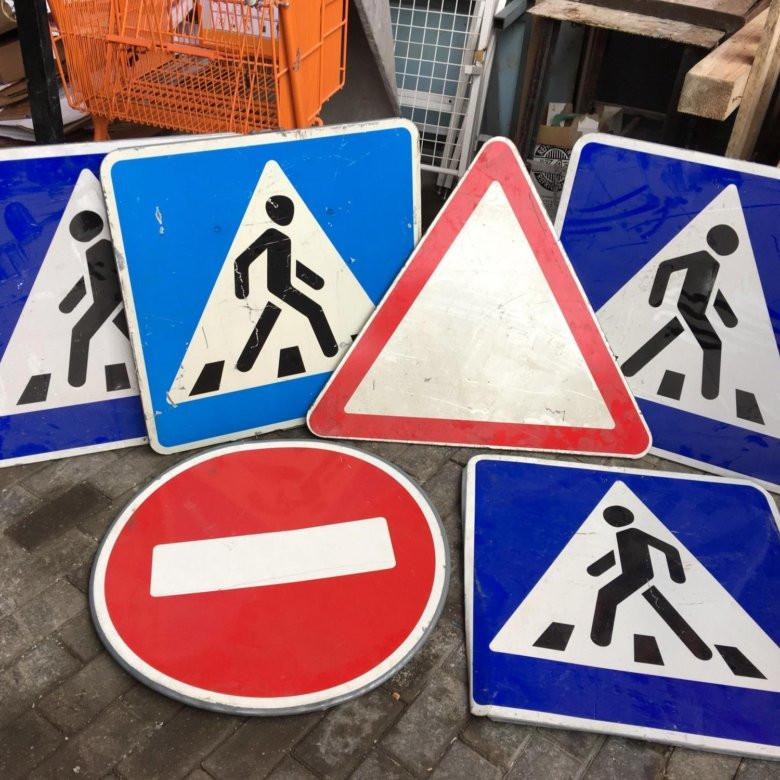obstructed_road_sign: (101, 113, 423, 455), (553, 133, 780, 493), (0, 142, 150, 466)
road_sign: (303, 136, 654, 461), (85, 440, 449, 716), (466, 453, 780, 759)
